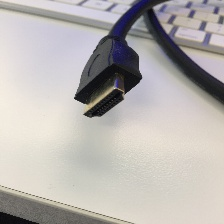hdmi_male: (68, 38, 142, 118)
